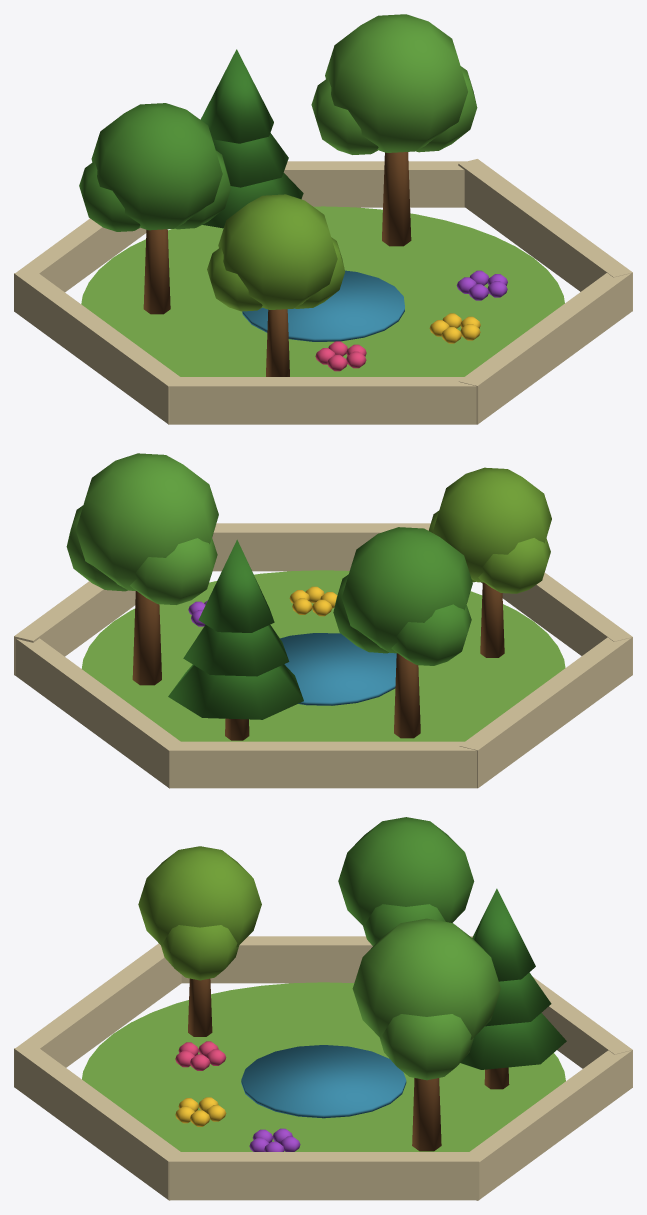
The model's file is improvement_pairidaeza.fbx.
The picture shows the model from 3 angles, top to bottom: view 1: azimuth 30°, elevation 25°; view 2: azimuth 150°, elevation 25°; view 3: azimuth 270°, elevation 25°; orthographic projection.
Parts seen in each view (by area): view 1: improvement_pairidaeza_pwall_01, improvement_pairidaeza_sg#7ab04a_00, improvement_pairidaeza_leaf#5a9a38_05, improvement_pairidaeza_leaf#4a8a30.001_04, improvement_pairidaeza_leaf#6a9a30_07, improvement_pairidaeza_leaf#3a7a2a_06, improvement_pairidaeza_wood#6a4423.002_03, improvement_pairidaeza_ppond_02, improvement_pairidaeza_fl#e04a7a_08, improvement_pairidaeza_fl#f0c030_09, improvement_pairidaeza_fl#a04ac8_10; view 2: improvement_pairidaeza_pwall_01, improvement_pairidaeza_sg#7ab04a_00, improvement_pairidaeza_leaf#5a9a38_05, improvement_pairidaeza_leaf#4a8a30.001_04, improvement_pairidaeza_leaf#3a7a2a_06, improvement_pairidaeza_leaf#6a9a30_07, improvement_pairidaeza_wood#6a4423.002_03, improvement_pairidaeza_ppond_02, improvement_pairidaeza_fl#f0c030_09; view 3: improvement_pairidaeza_pwall_01, improvement_pairidaeza_sg#7ab04a_00, improvement_pairidaeza_leaf#5a9a38_05, improvement_pairidaeza_leaf#4a8a30.001_04, improvement_pairidaeza_leaf#6a9a30_07, improvement_pairidaeza_ppond_02, improvement_pairidaeza_leaf#3a7a2a_06, improvement_pairidaeza_wood#6a4423.002_03, improvement_pairidaeza_fl#e04a7a_08, improvement_pairidaeza_fl#f0c030_09, improvement_pairidaeza_fl#a04ac8_10.
Part boxes in pixels (left/top/right/bottom): improvement_pairidaeza_pwall_01: left=14, top=159, right=632, bottom=424; improvement_pairidaeza_sg#7ab04a_00: left=81, top=206, right=564, bottom=376; improvement_pairidaeza_leaf#5a9a38_05: left=311, top=14, right=477, bottom=154; improvement_pairidaeza_leaf#4a8a30.001_04: left=79, top=103, right=230, bottom=231; improvement_pairidaeza_leaf#6a9a30_07: left=207, top=194, right=344, bottom=311; improvement_pairidaeza_leaf#3a7a2a_06: left=200, top=49, right=303, bottom=228; improvement_pairidaeza_wood#6a4423.002_03: left=143, top=152, right=411, bottom=376; improvement_pairidaeza_ppond_02: left=242, top=270, right=404, bottom=341; improvement_pairidaeza_fl#e04a7a_08: left=315, top=341, right=366, bottom=371; improvement_pairidaeza_fl#f0c030_09: left=429, top=313, right=480, bottom=343; improvement_pairidaeza_fl#a04ac8_10: left=456, top=270, right=507, bottom=300; improvement_pairidaeza_pwall_01: left=14, top=523, right=632, bottom=788; improvement_pairidaeza_sg#7ab04a_00: left=81, top=570, right=565, bottom=741; improvement_pairidaeza_leaf#5a9a38_05: left=66, top=453, right=218, bottom=604; improvement_pairidaeza_leaf#4a8a30.001_04: left=333, top=527, right=472, bottom=665; improvement_pairidaeza_leaf#3a7a2a_06: left=168, top=539, right=303, bottom=719; improvement_pairidaeza_leaf#6a9a30_07: left=428, top=467, right=551, bottom=593; improvement_pairidaeza_wood#6a4423.002_03: left=132, top=582, right=504, bottom=740; improvement_pairidaeza_ppond_02: left=280, top=633, right=396, bottom=705; improvement_pairidaeza_fl#f0c030_09: left=289, top=586, right=337, bottom=616; improvement_pairidaeza_pwall_01: left=14, top=936, right=632, bottom=1200; improvement_pairidaeza_sg#7ab04a_00: left=82, top=982, right=565, bottom=1151; improvement_pairidaeza_leaf#5a9a38_05: left=352, top=918, right=500, bottom=1080; improvement_pairidaeza_leaf#4a8a30.001_04: left=338, top=817, right=474, bottom=945; improvement_pairidaeza_leaf#6a9a30_07: left=138, top=846, right=261, bottom=980; improvement_pairidaeza_ppond_02: left=241, top=1045, right=406, bottom=1118; improvement_pairidaeza_leaf#3a7a2a_06: left=460, top=888, right=566, bottom=1069; improvement_pairidaeza_wood#6a4423.002_03: left=188, top=978, right=509, bottom=1151; improvement_pairidaeza_fl#e04a7a_08: left=175, top=1041, right=226, bottom=1070; improvement_pairidaeza_fl#f0c030_09: left=175, top=1097, right=226, bottom=1126; improvement_pairidaeza_fl#a04ac8_10: left=249, top=1128, right=300, bottom=1151.
Bounding box in the file's own units: 130 × 59.7 × 150.
